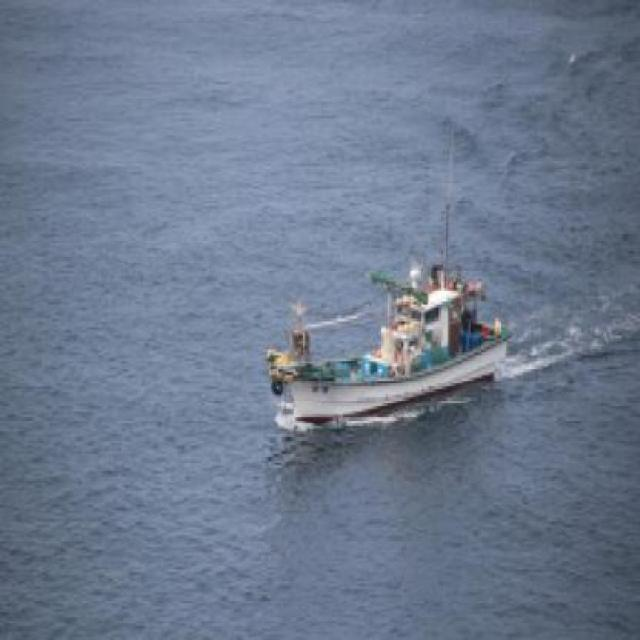fish-b: (260, 241, 519, 447)
